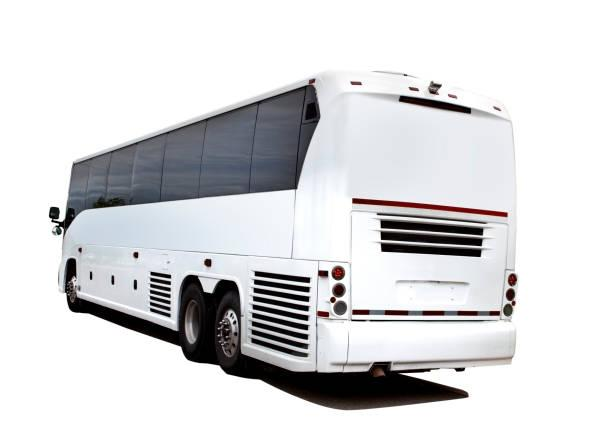bus: (48, 64, 525, 376)
